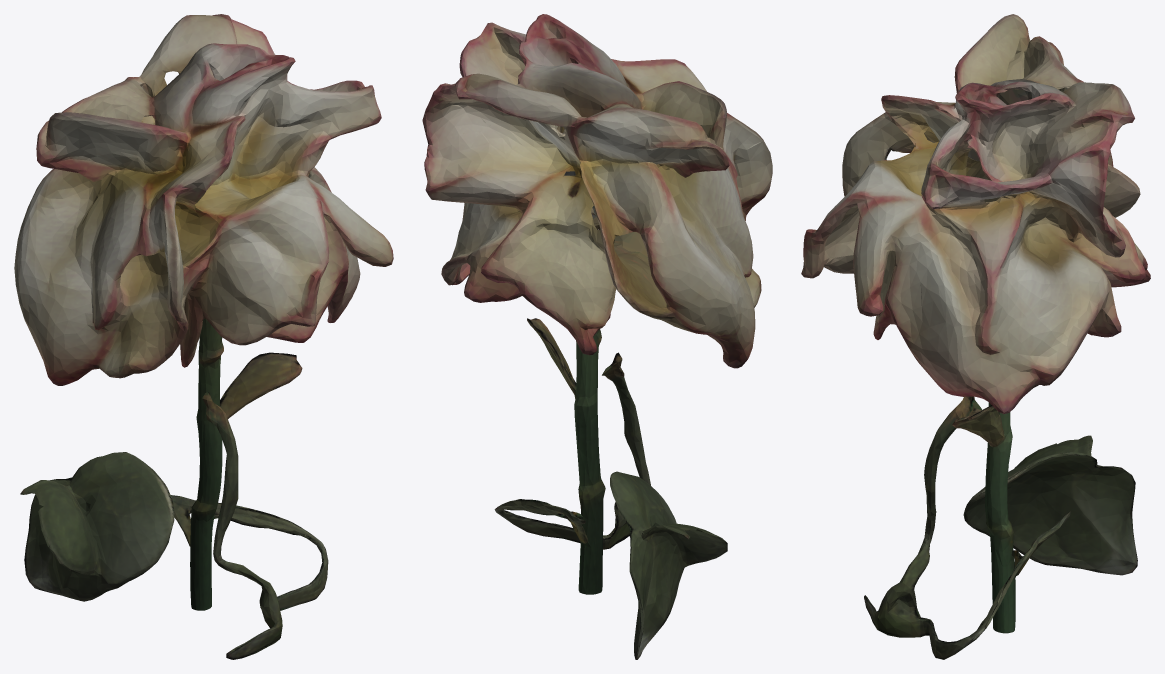
3 views of the same model, side by side, from view 1: azimuth 30°, elevation 25°; view 2: azimuth 150°, elevation 25°; view 3: azimuth 270°, elevation 25° (orthographic). The views are drawn at different scales.
Parts seen in each view (by area): view 1: world; view 2: world; view 3: world.
Boxes of the visible parts, x1=… form: world: x1=14, y1=14, x2=393, y2=659; world: x1=422, y1=14, x2=772, y2=659; world: x1=801, y1=14, x2=1150, y2=659.
Size of the model in its own units: 0.5791 by 0.9824 by 0.5479.
Materials: 1 (1 with a texture image).
